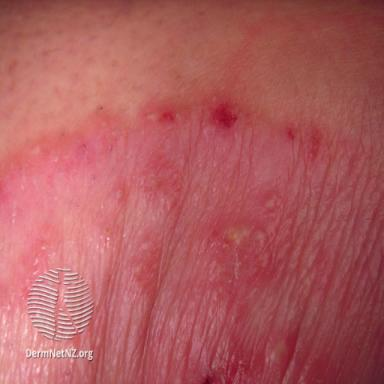Tinea-Corporis: (0, 91, 384, 384)
